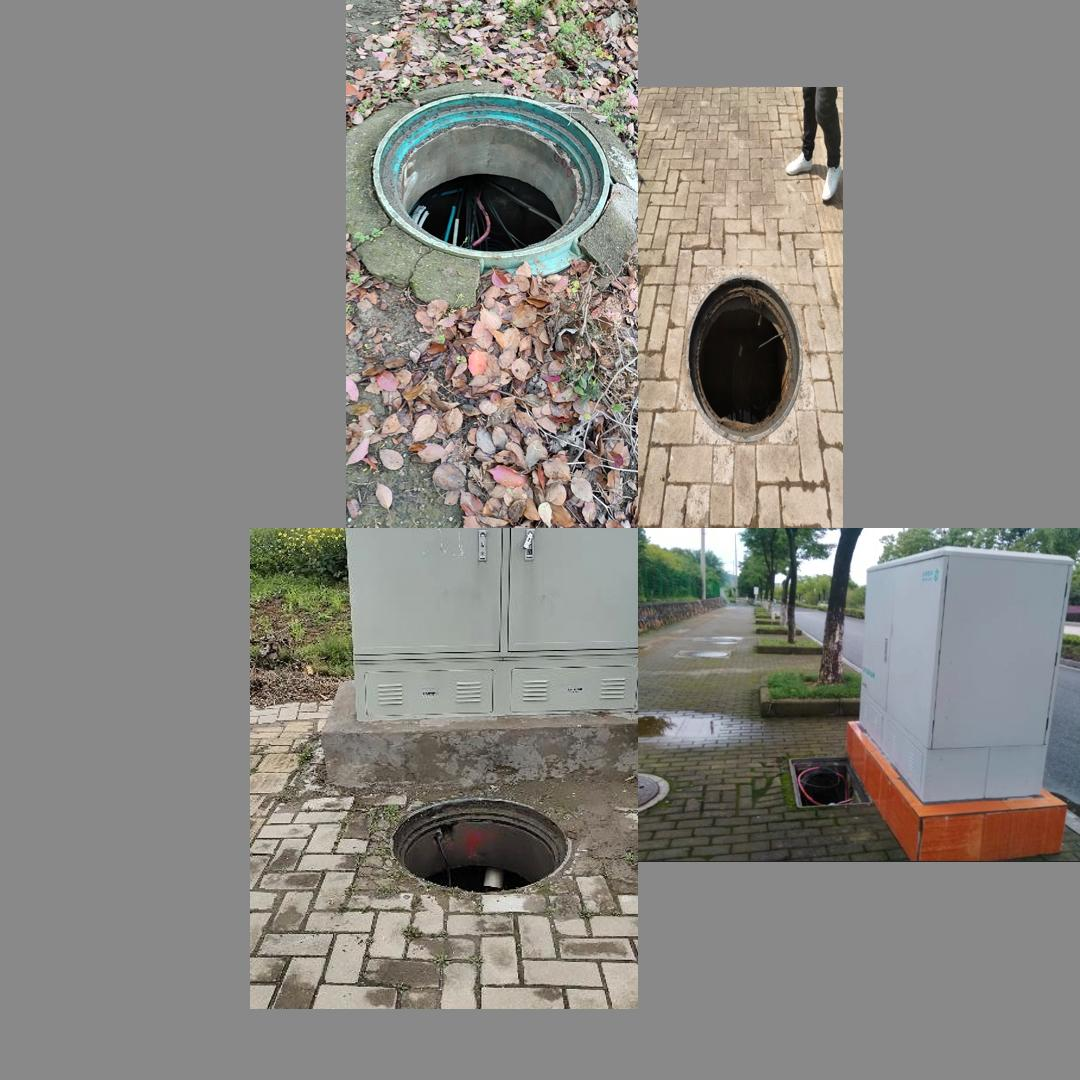lose: (371, 89, 611, 256), (685, 273, 802, 441), (390, 796, 572, 893), (789, 755, 874, 809)
